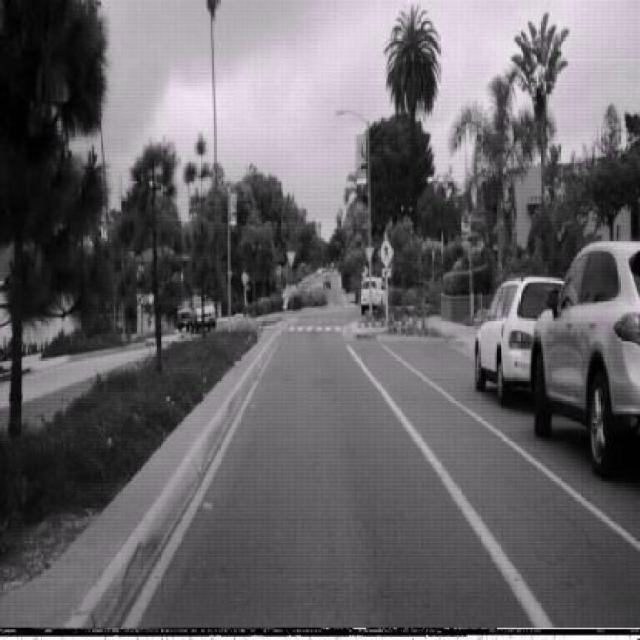pedestrianCrossing: (378, 235, 394, 269)
yield: (363, 243, 375, 264), (286, 249, 296, 267)
